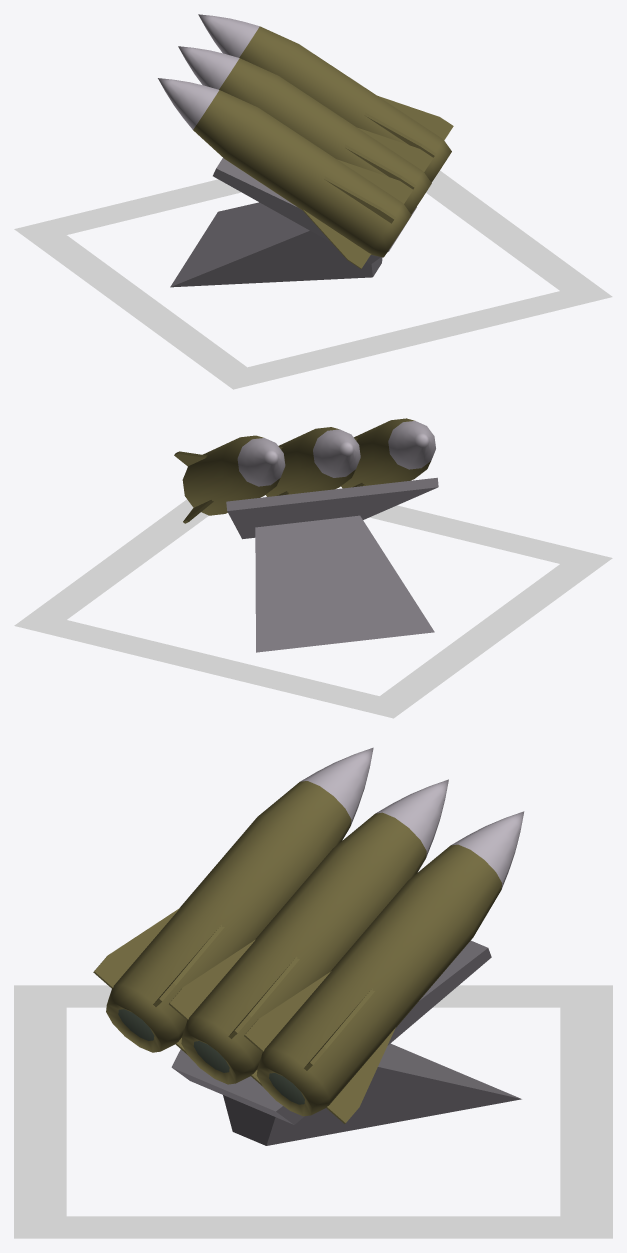
File: ProSystem 2.fbx
3 views of the same model, one above another, from view 1: azimuth 30°, elevation 25°; view 2: azimuth 150°, elevation 25°; view 3: azimuth 270°, elevation 25° (orthographic). The views are drawn at different scales.
Visible parts, largest first — view 1: PRO System; view 2: PRO System; view 3: PRO System.
Part boxes in pixels (x1,y1,x2,y2): PRO System: (14,14,612,389); PRO System: (14,418,612,718); PRO System: (14,747,612,1238).
Size of the model in its own units: 238 by 121 by 238.
